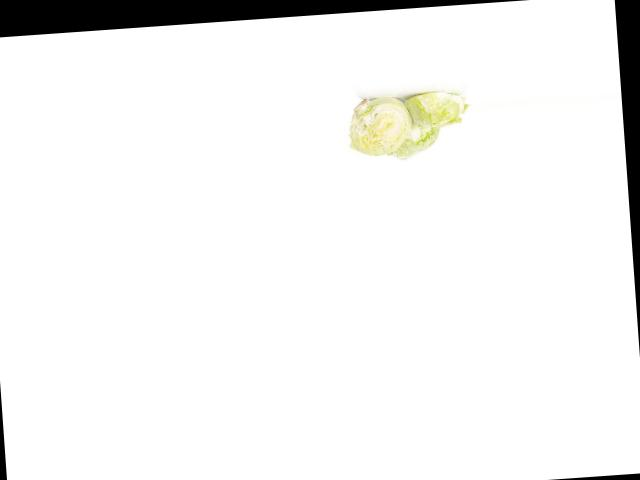lettuce: (378, 115, 447, 163)
